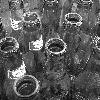beer: (35, 35, 74, 97)
